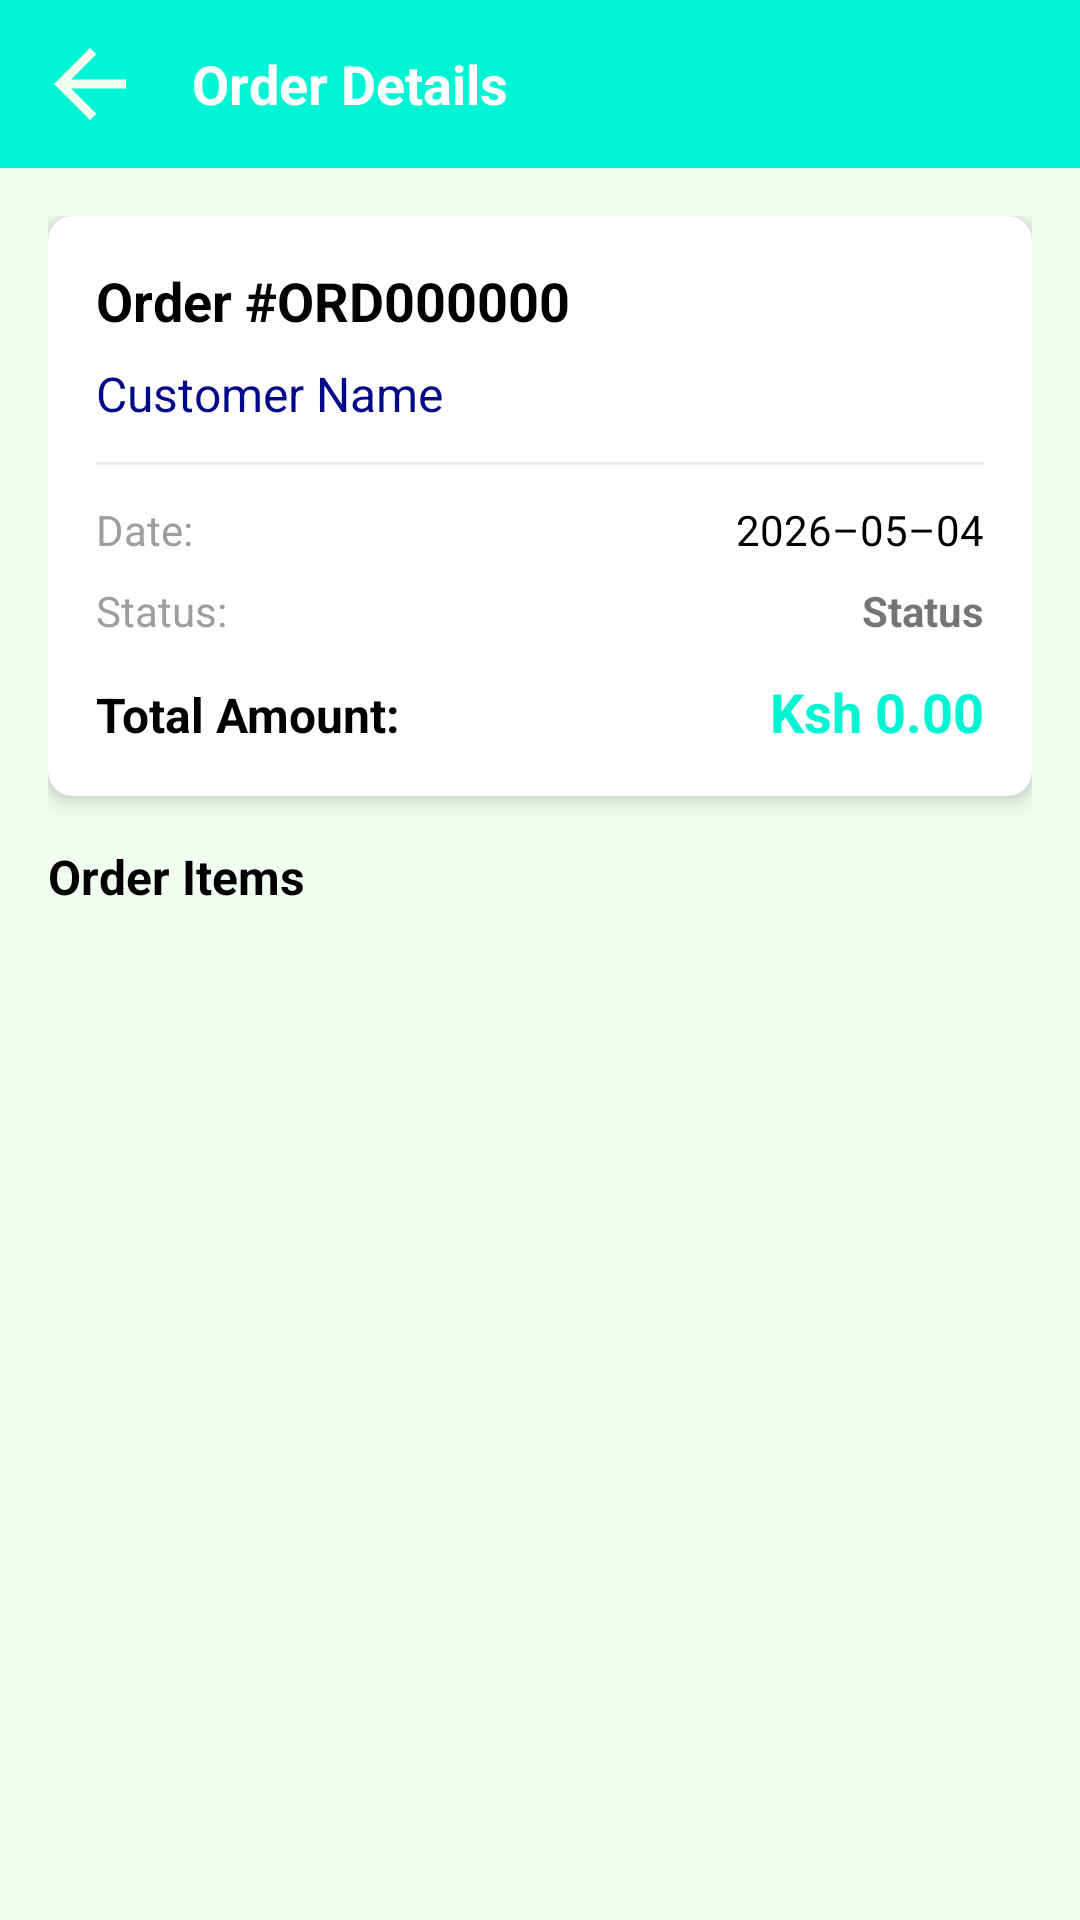

Icon click points for this 1080 × 1920 phone screenshot, format (x,y):
Back: (90,84)
